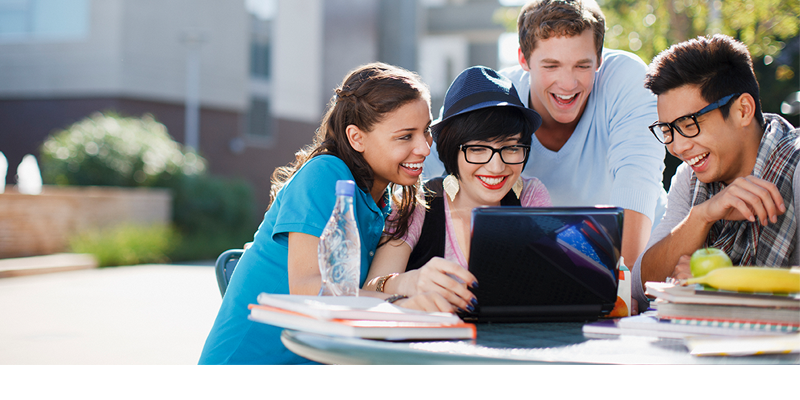Person: (192, 59, 431, 303), (646, 35, 800, 267), (518, 1, 649, 203), (431, 65, 540, 206)
